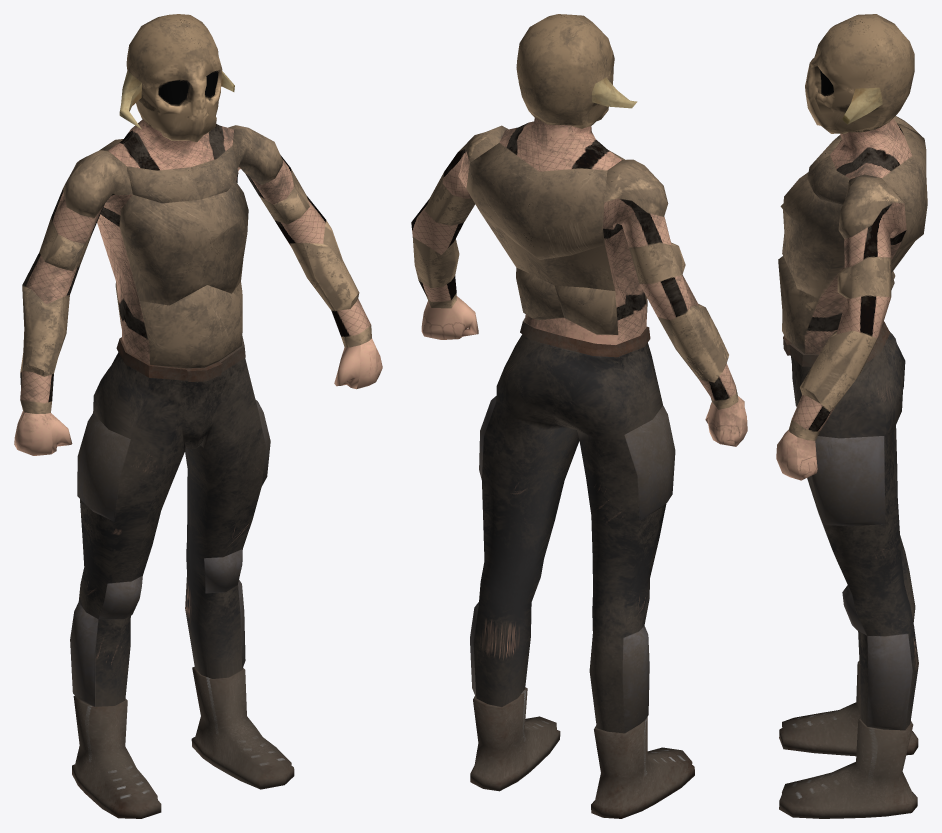
File: Anim_idle_npc1.0039.obj
The picture shows the model from 3 angles, left to right: view 1: azimuth 30°, elevation 25°; view 2: azimuth 150°, elevation 25°; view 3: azimuth 270°, elevation 25°; orthographic projection.
Visible parts, largest first — view 1: NPC2; view 2: NPC2; view 3: NPC2.
Part boxes in pixels (x1,y1,x2,y2): NPC2: (14,14,382,818); NPC2: (411,14,747,818); NPC2: (776,14,927,818).
Bounding box in the file's own units: 4.54 × 9.67 × 1.75.
